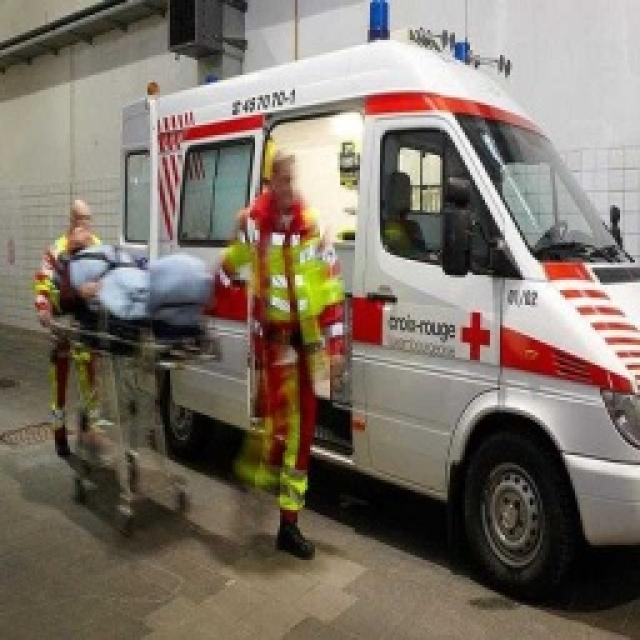ambulance: (310, 20, 640, 600), (0, 0, 165, 48)
